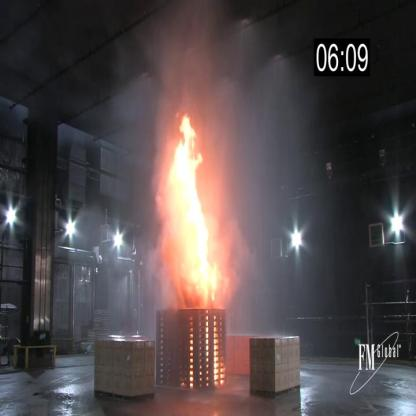fire: (165, 110, 224, 305)
